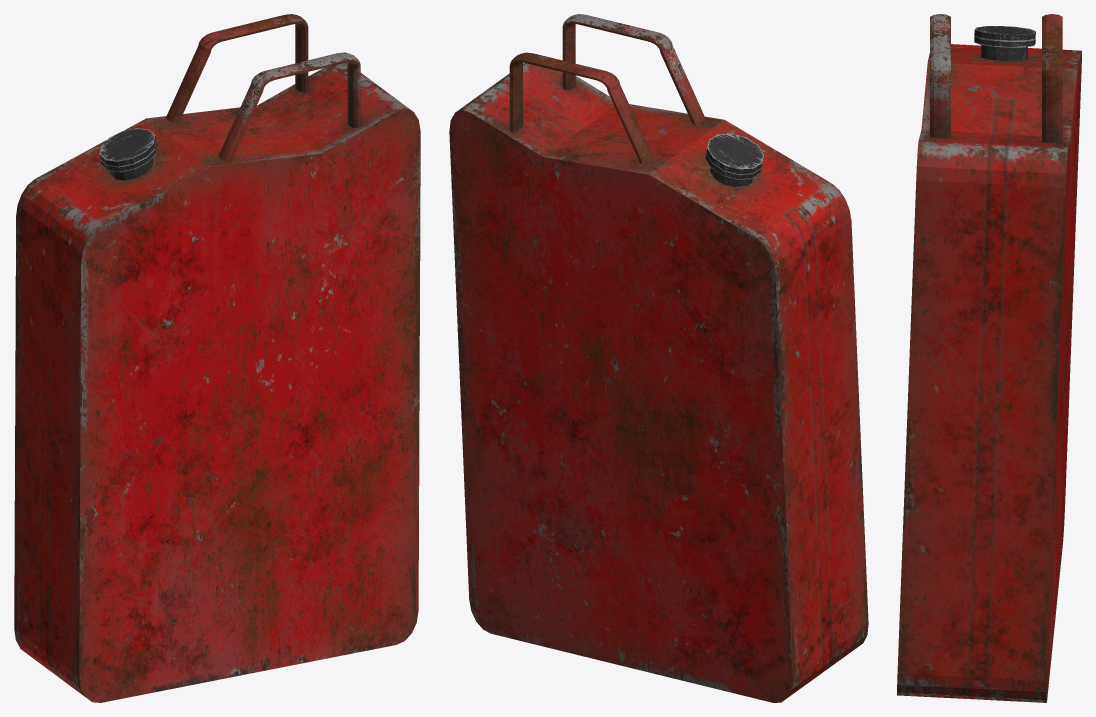
Rendered from lowPolypetrolBottle.fbx.
The picture shows the model from 3 angles, left to right: view 1: azimuth 30°, elevation 25°; view 2: azimuth 150°, elevation 25°; view 3: azimuth 270°, elevation 25°; orthographic projection. The views are drawn at different scales.
Parts seen in each view (by area): view 1: Object; view 2: Object; view 3: Object.
Part boxes in pixels (x1,y1,x2,y2): Object: (14, 14, 420, 702); Object: (449, 14, 868, 702); Object: (897, 14, 1081, 702).
Size of the model in its own units: 50.52 by 81.83 by 21.9.
2 materials, 2 textured.
